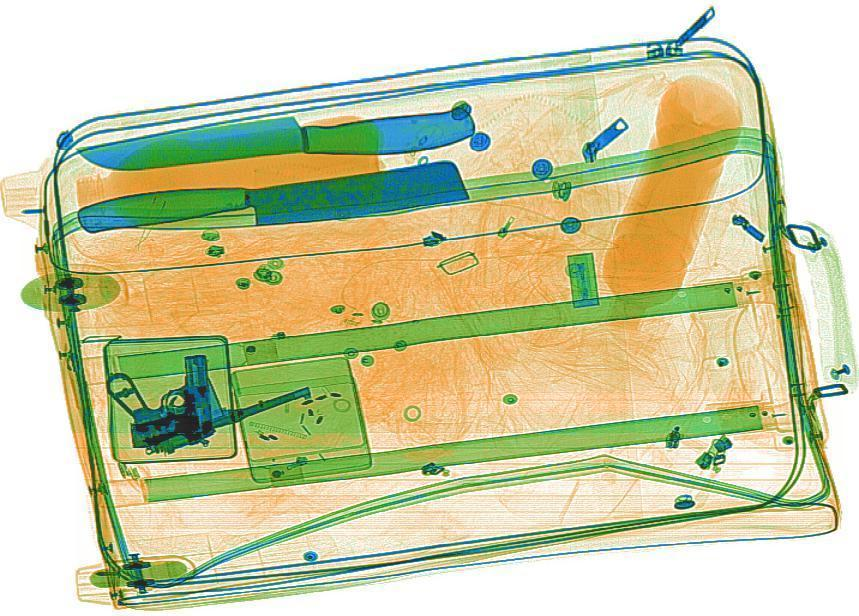Gun: (82, 321, 318, 455), (120, 353, 215, 453)
Knife: (71, 94, 478, 172), (67, 161, 481, 235)
